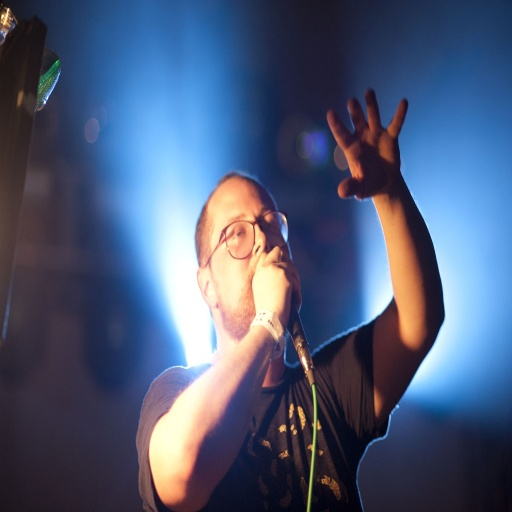hand: (330, 96, 412, 212), (250, 241, 302, 340)
